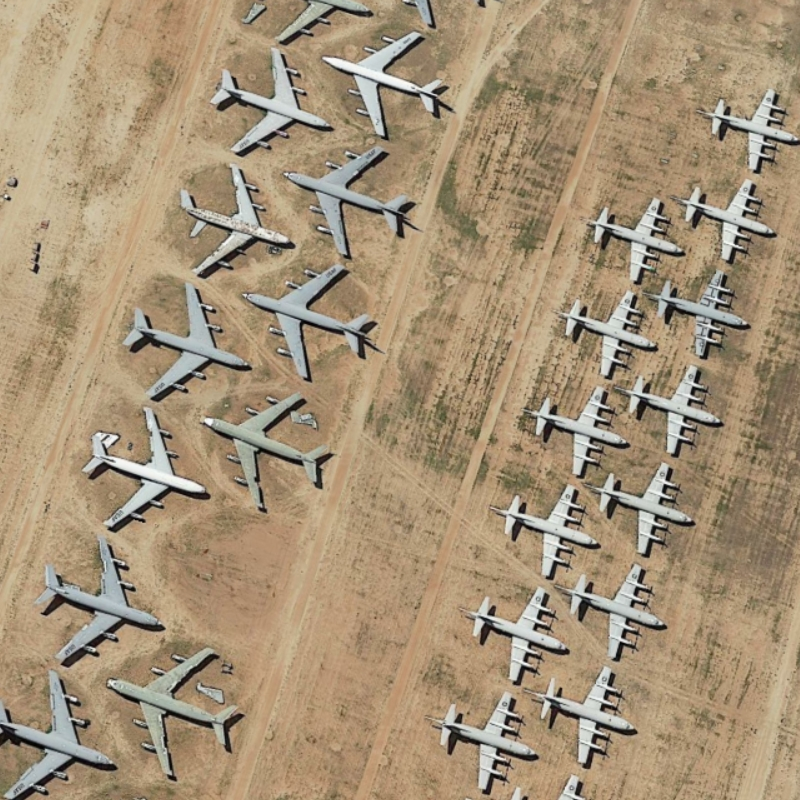A11: (76, 402, 215, 531), (313, 25, 448, 144)
A14: (30, 528, 178, 663), (103, 647, 245, 783), (115, 278, 258, 398), (1, 666, 123, 800), (202, 393, 331, 519), (233, 266, 375, 380), (280, 144, 413, 260), (203, 42, 331, 155)
A9: (582, 454, 703, 563), (424, 691, 541, 800), (524, 664, 638, 773), (553, 561, 673, 664), (459, 579, 572, 684), (484, 480, 600, 582), (614, 361, 723, 459), (587, 189, 690, 292), (518, 382, 626, 478), (554, 286, 662, 380), (693, 82, 800, 175), (676, 173, 780, 266), (649, 269, 749, 359)
